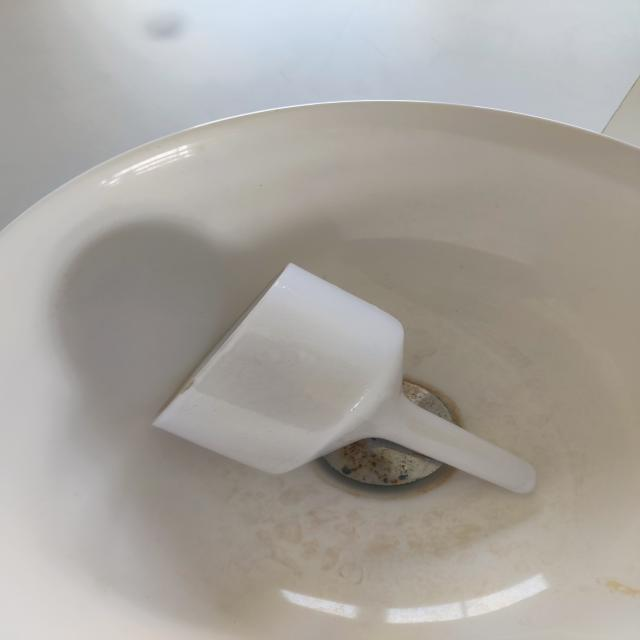Buchner_Funnel: (112, 197, 582, 554)
